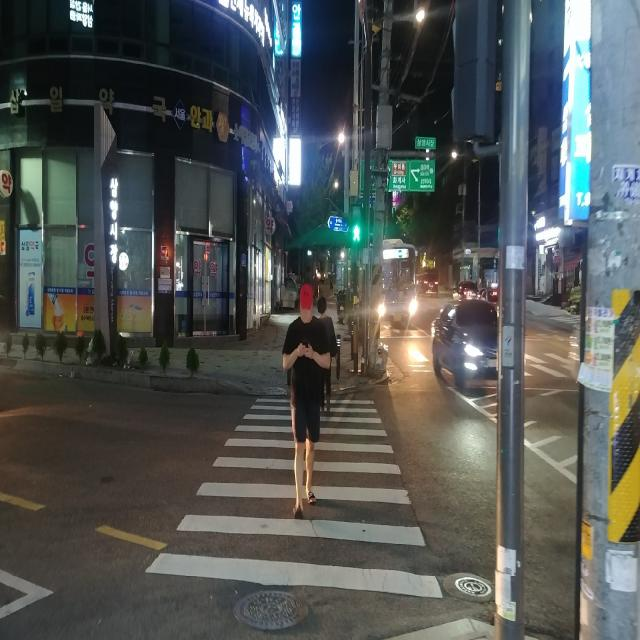초록불: (352, 208, 362, 242)
횡단보도: (145, 399, 443, 599), (528, 354, 572, 377)
